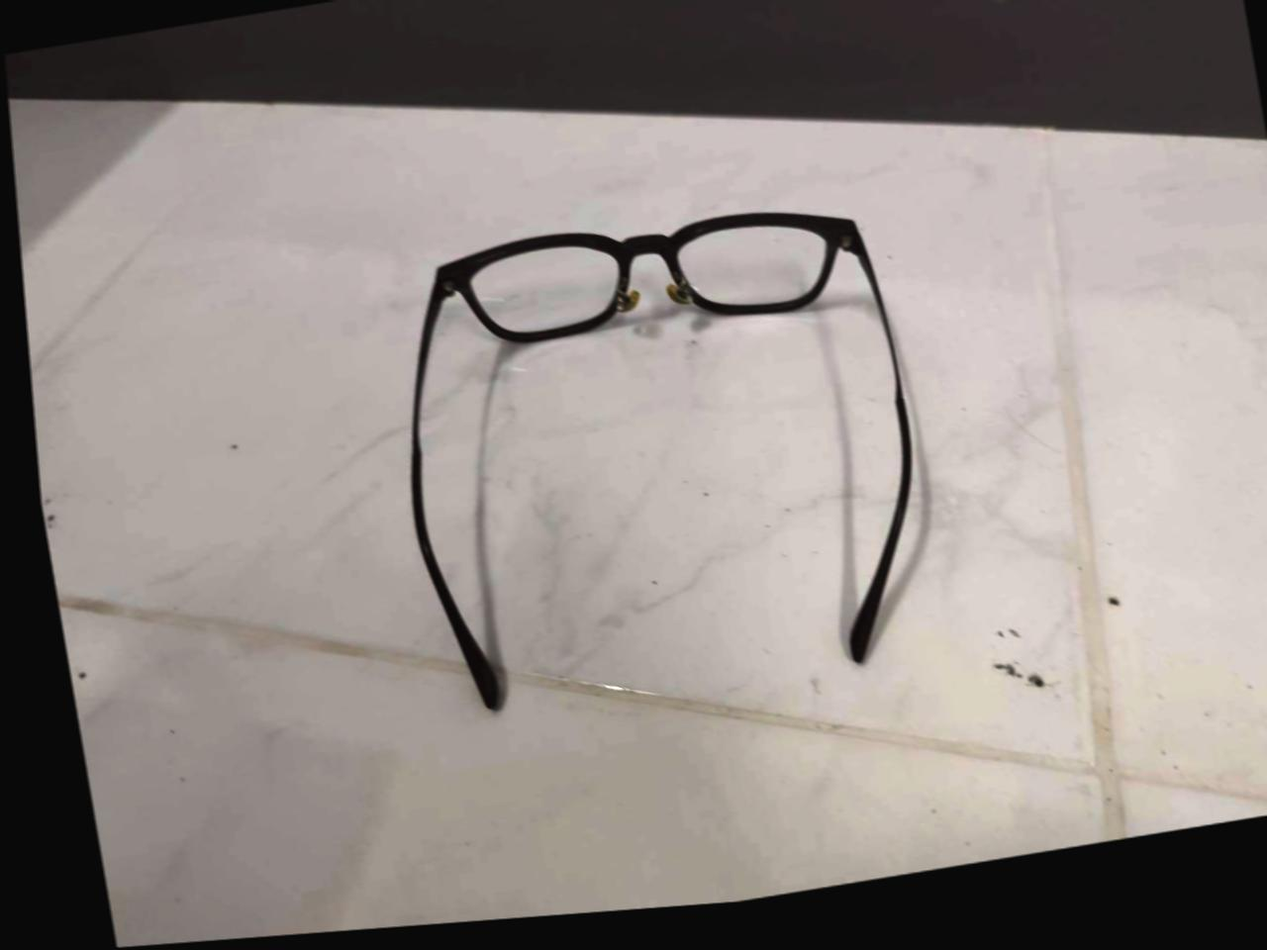glasses: (351, 175, 967, 731)
